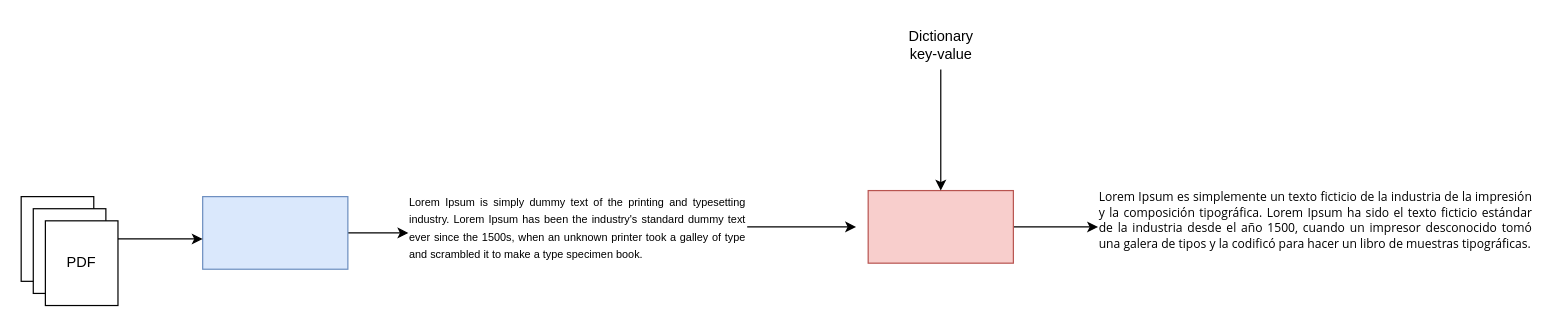
Some shapes in this 1555 by 328 pixel diagram are drawn without their labels. Here are the shapes that lost their labels. From the top down, the centre of each, then its label:
At [274,232]: "ORC".
At [940,226]: "GPT text-davinci-003".
